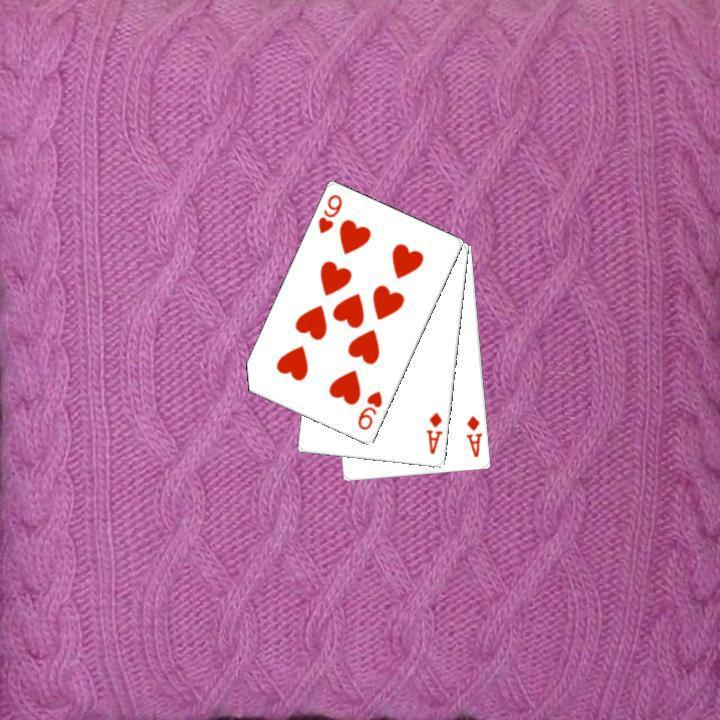9: (353, 387, 385, 433), (314, 190, 344, 236)
A: (422, 408, 445, 456), (462, 412, 485, 459)
